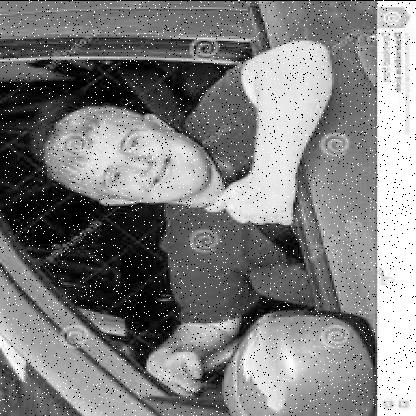seatbelt: (37, 74, 306, 260)
